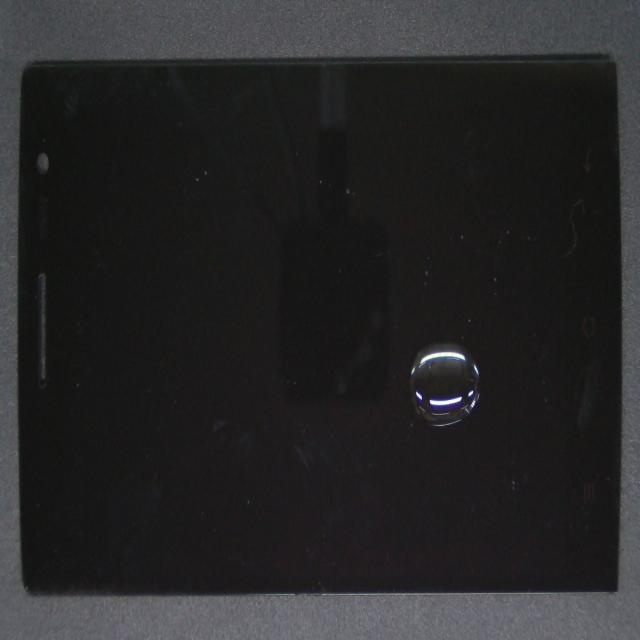oil: (238, 219, 640, 575)
